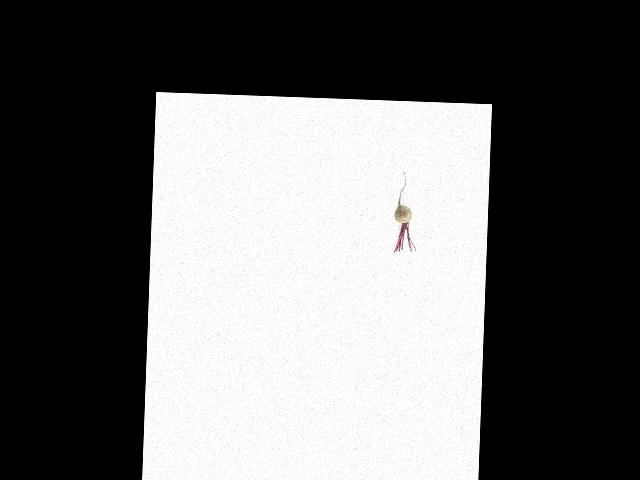beet: (392, 170, 418, 253)
